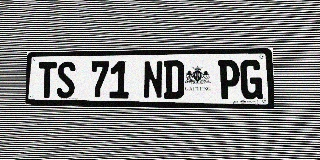1: (109, 61, 129, 98)
7: (90, 61, 109, 98)
D: (164, 60, 184, 99)
G: (240, 60, 263, 100)
N: (143, 61, 163, 99)
P: (218, 60, 240, 99)
S: (56, 61, 75, 98)
T: (38, 62, 57, 98)
